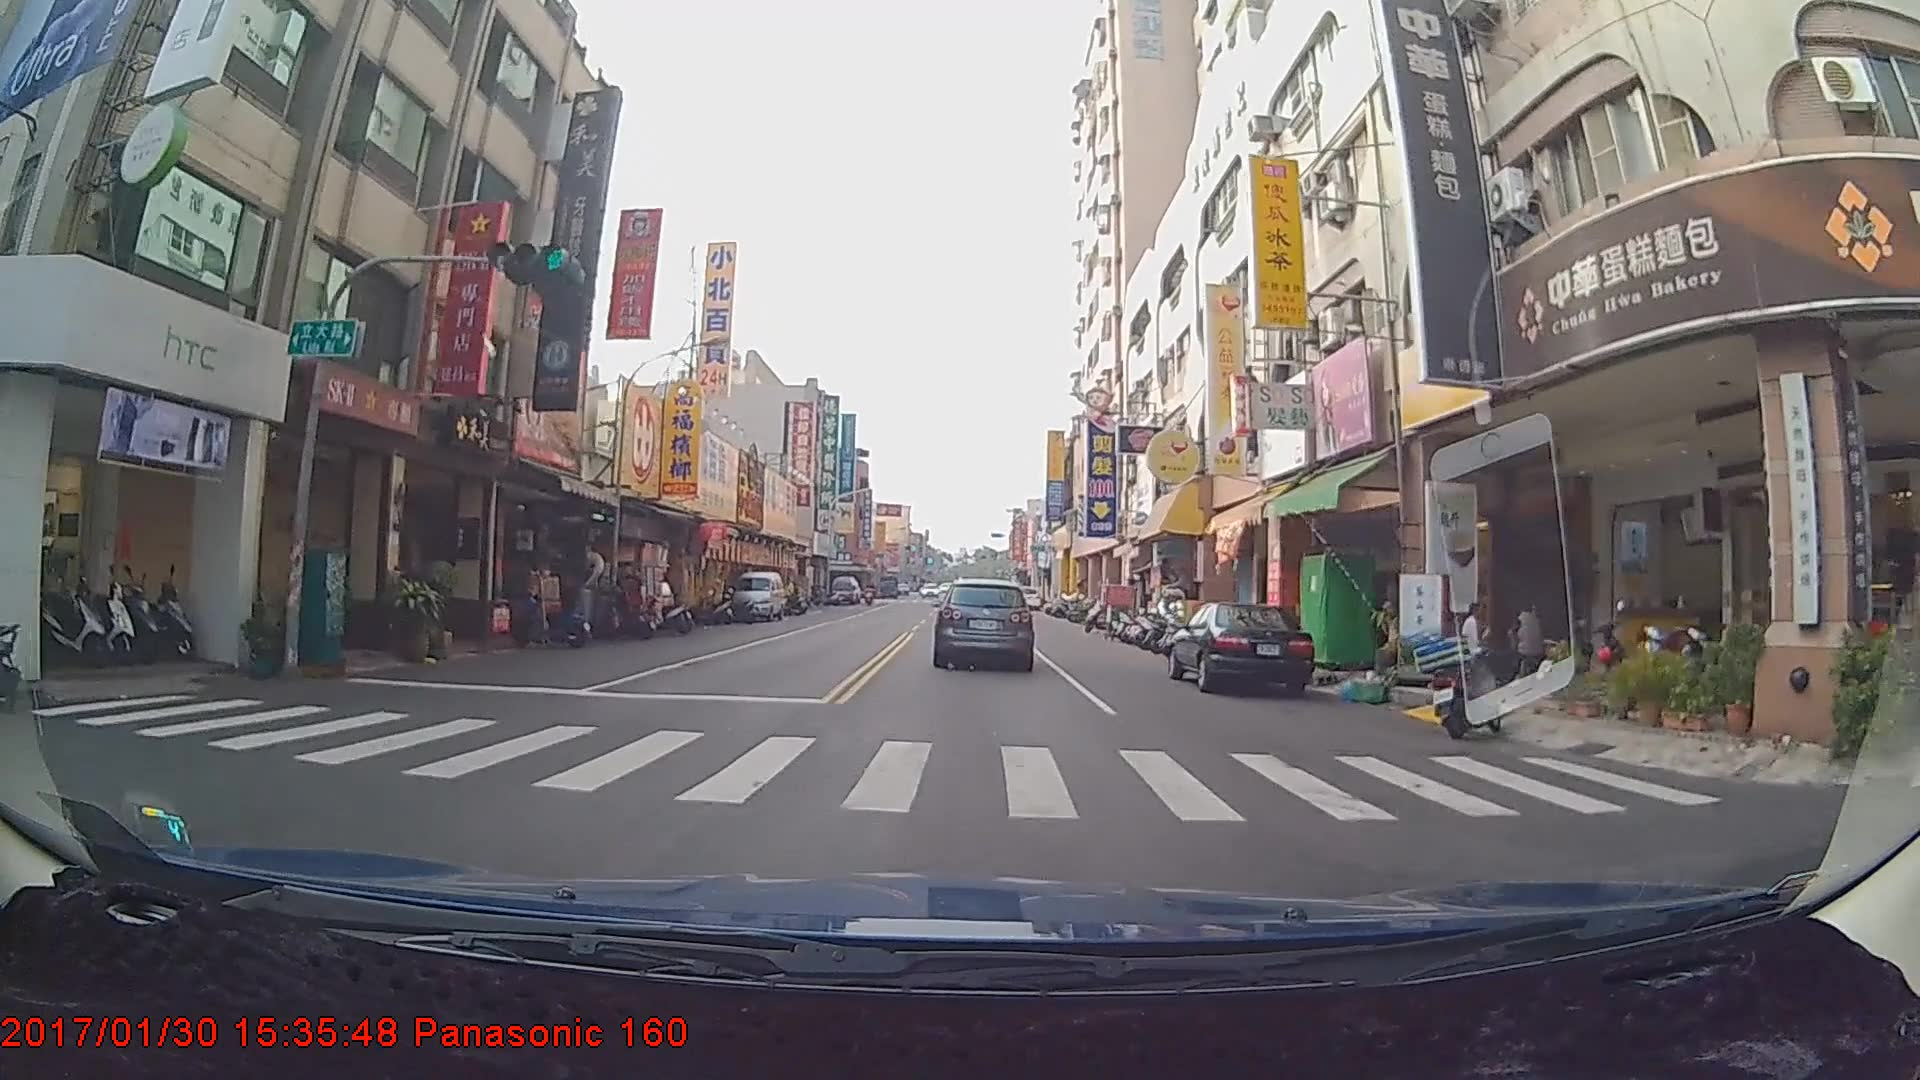pedestrian: (1503, 593, 1545, 687), (1458, 595, 1493, 684)
vehicle: (1169, 599, 1315, 695), (934, 579, 1032, 668), (727, 567, 782, 620), (829, 563, 860, 593), (1010, 582, 1037, 606)
